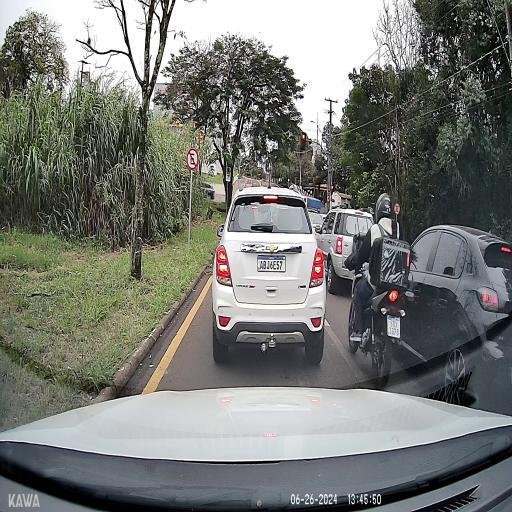R-6a: (186, 148, 198, 170)
R-6c: (394, 202, 400, 216)
